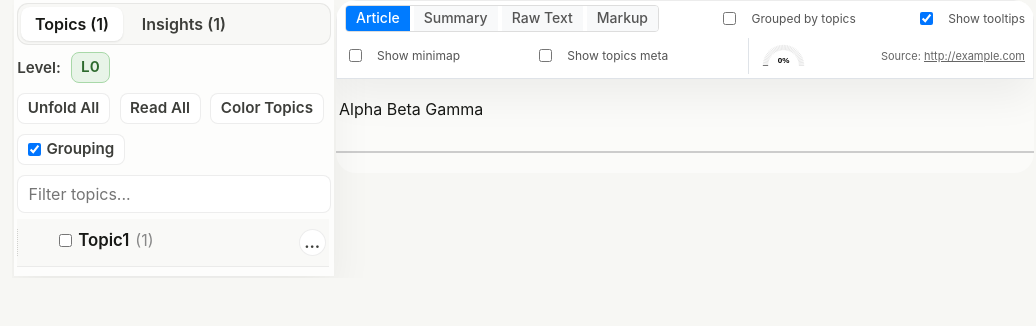
TextPage raw text navigation › keeps the Markup tab visible even when grouped-by-topics was enabled earlier
Expected: the text "Source:" is shown, x1=881 y1=49 x2=921 y2=63
What coordinates should you click on to do the following:
click the checkbox labelled "Grouped by topics"
I would click on:
 (730, 18)
Its box is x1=724 y1=12 x2=736 y2=25.
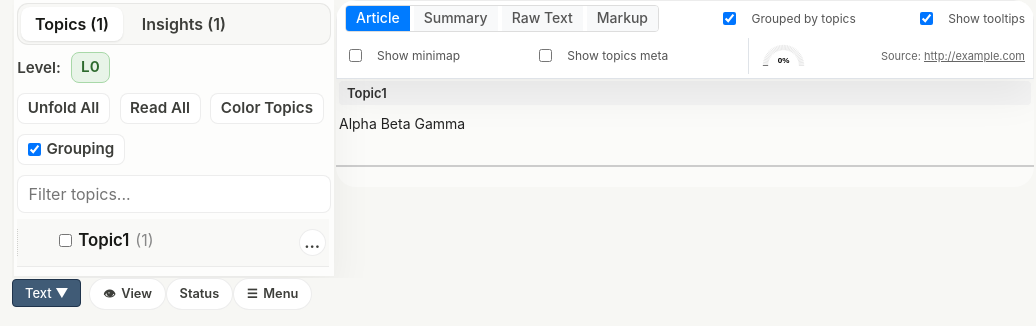
What coordinates should you click on to do the following:
click the button "Markup"
I would click on:
 (622, 18)
Its box is x1=587 y1=6 x2=658 y2=31.
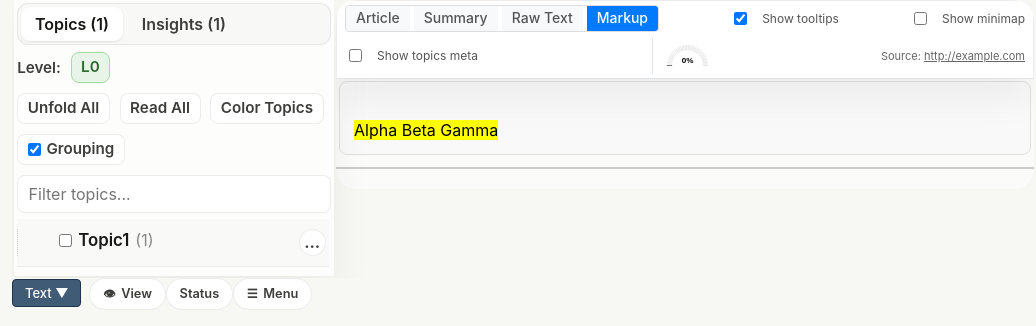
Expected: the checkbox labelled "Show tooltips" is shown, x1=734 y1=12 x2=747 y2=25
Expected: the label labelled "Grouped by topics" is gone
